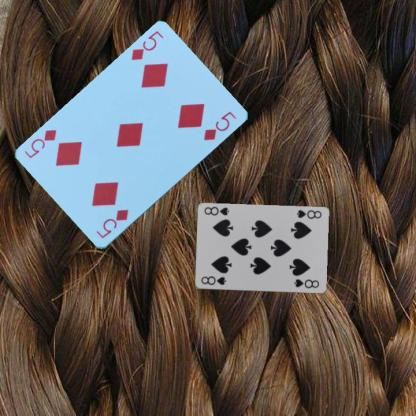5d: (94, 207, 130, 240), (128, 29, 164, 62)
8s: (198, 274, 227, 286), (294, 208, 322, 220)
